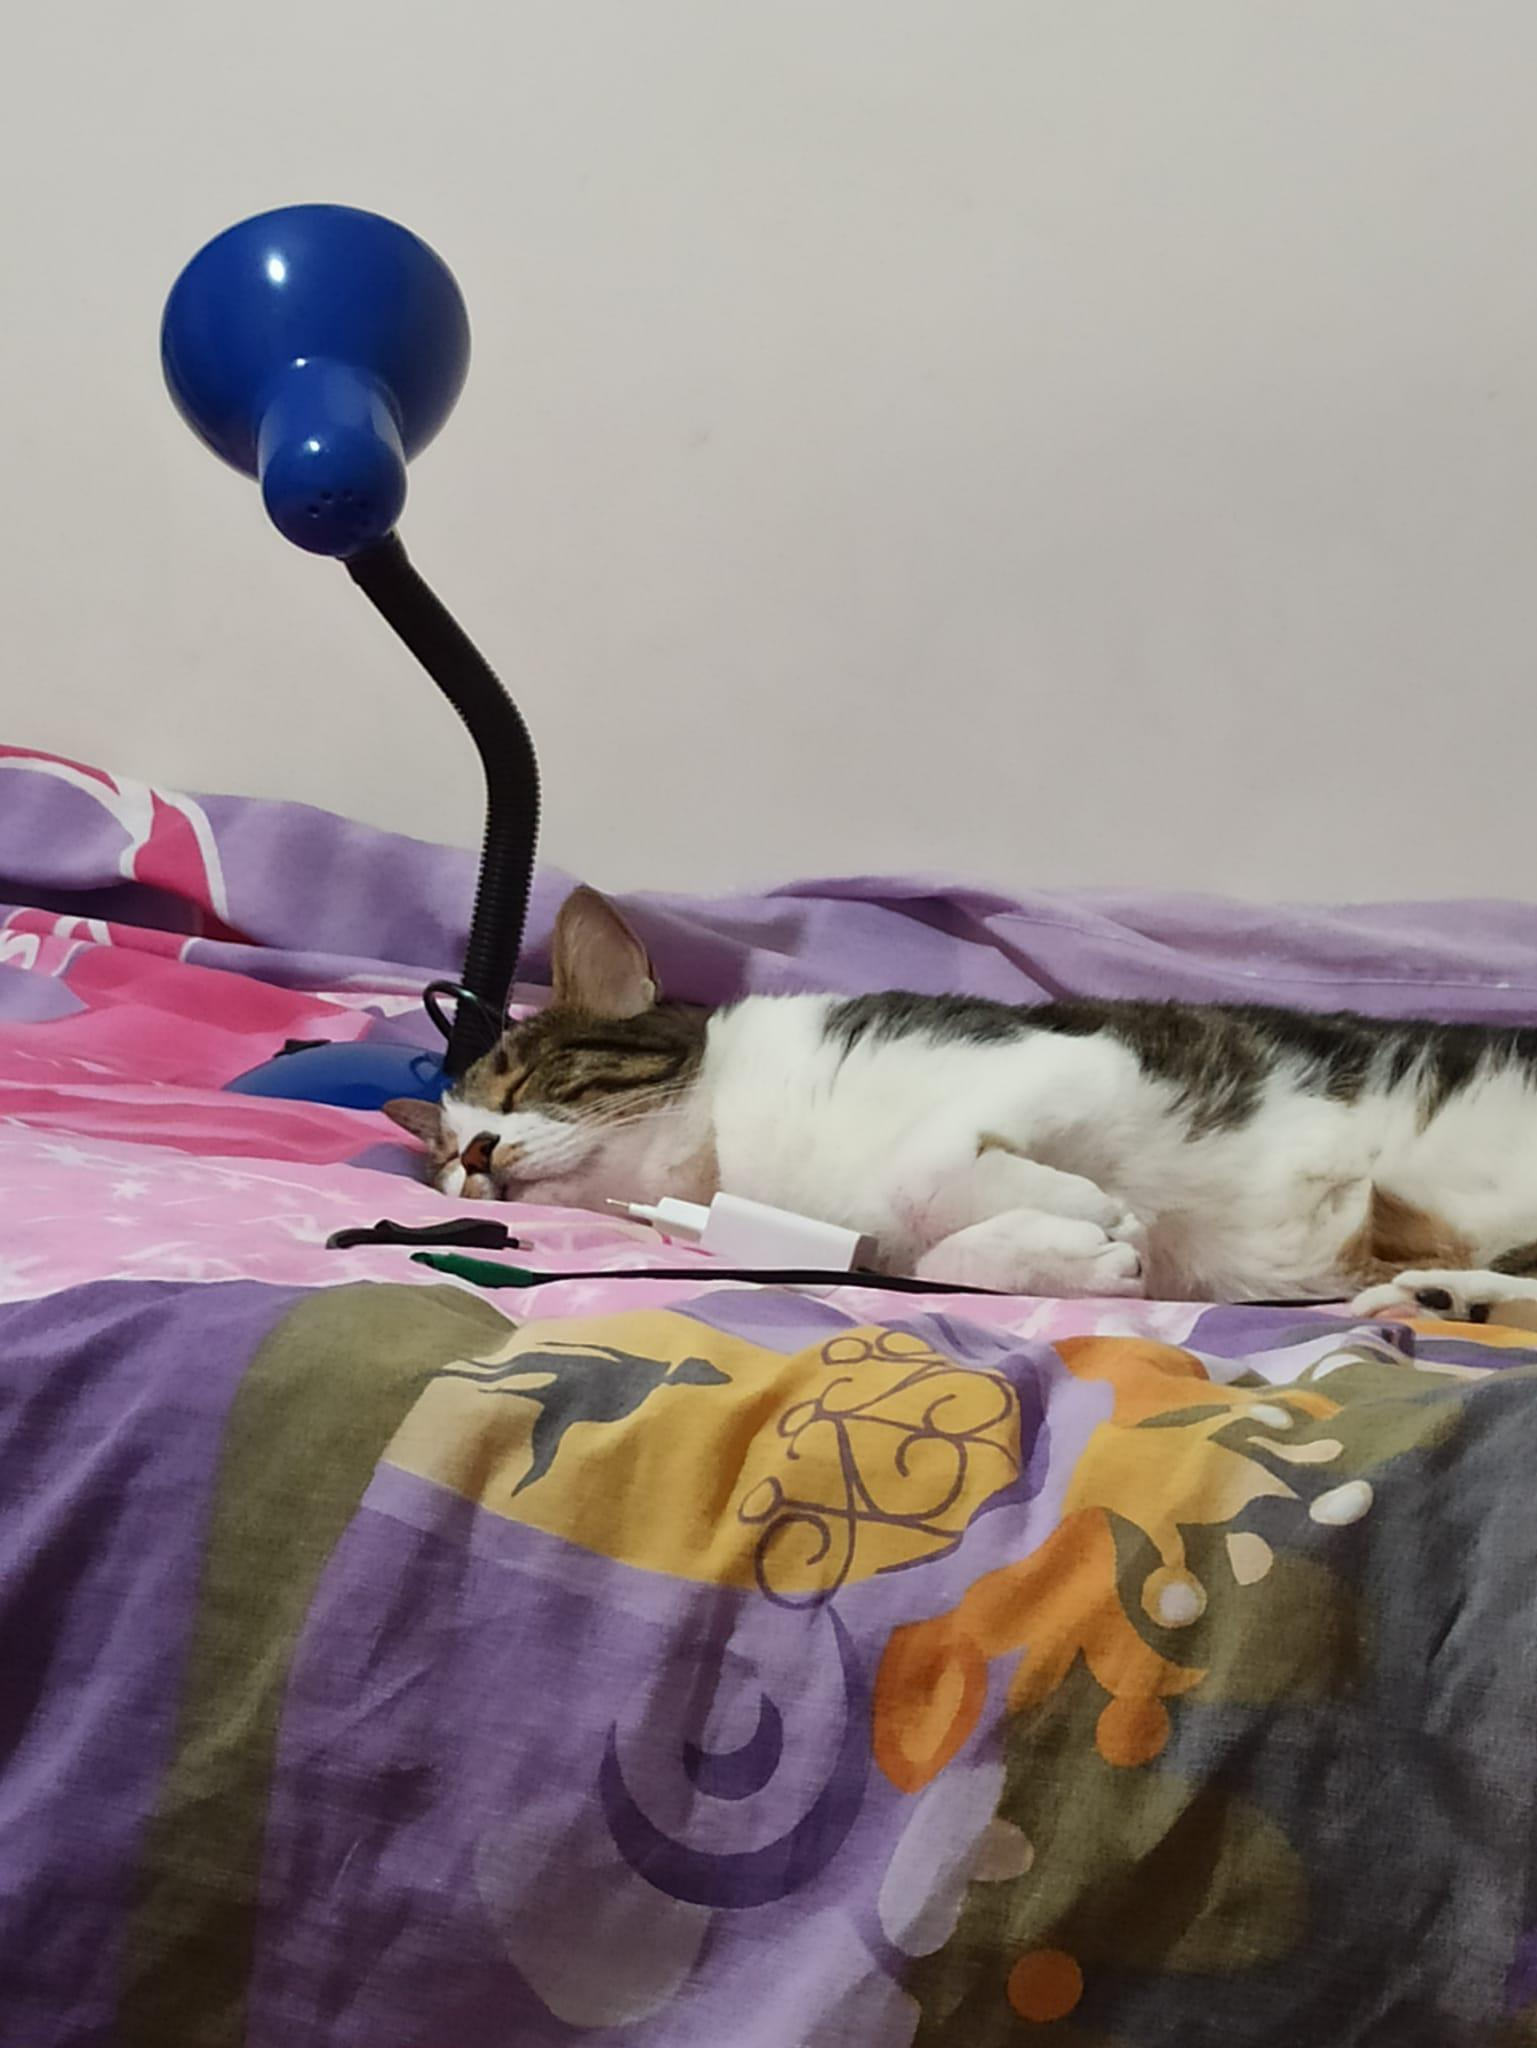kedo: (391, 878, 1537, 1328)
